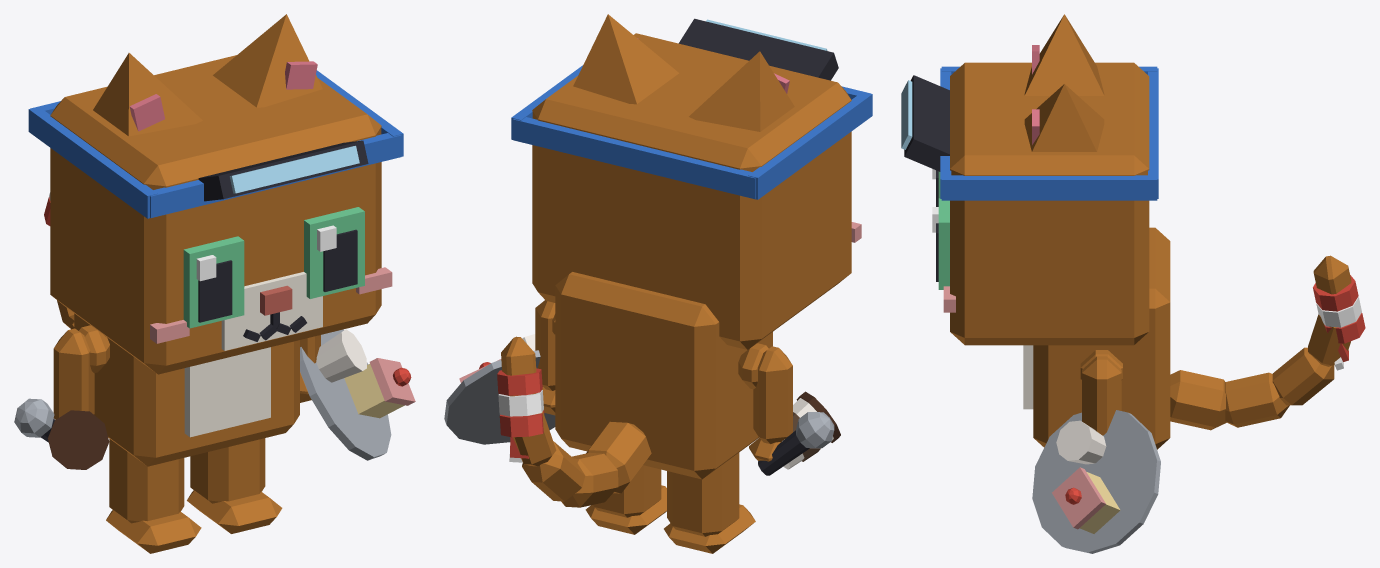
File: CatCafe_Cat_Ski_Work.glb
The picture shows the model from 3 angles, left to right: view 1: azimuth 30°, elevation 25°; view 2: azimuth 150°, elevation 25°; view 3: azimuth 270°, elevation 25°; orthographic projection. The views are drawn at different scales.
Parts seen in each view (by area): view 1: CatCafe_Cat_Ski_Work_Head, CatCafe_Cat_Ski_Work_Body, CatCafe_Cat_Ski_Work_Prop, CatCafe_Cat_Ski_Work_Held_Waiter, CatCafe_Cat_Ski_Work_LegB2, CatCafe_Cat_Ski_Work_LegB1, CatCafe_Cat_Ski_Work_EarL, CatCafe_Cat_Ski_Work_Eye2, CatCafe_Cat_Ski_Work_Eye1, CatCafe_Cat_Ski_Work_EarR, CatCafe_Cat_Ski_Work_LegF2, CatCafe_Cat_Ski_Work_Held_Barista (+2 smaller); view 2: CatCafe_Cat_Ski_Work_Head, CatCafe_Cat_Ski_Work_Body, CatCafe_Cat_Ski_Work_Prop, CatCafe_Cat_Ski_Work_Tail, CatCafe_Cat_Ski_Work_LegB2, CatCafe_Cat_Ski_Work_EarL, CatCafe_Cat_Ski_Work_EarR, CatCafe_Cat_Ski_Work_Held_Waiter, CatCafe_Cat_Ski_Work_LegF2, CatCafe_Cat_Ski_Work_LegB1, CatCafe_Cat_Ski_Work_Tail_Scarf, CatCafe_Cat_Ski_Work_Held_Entertainer (+2 smaller); view 3: CatCafe_Cat_Ski_Work_Head, CatCafe_Cat_Ski_Work_Held_Waiter, CatCafe_Cat_Ski_Work_Body, CatCafe_Cat_Ski_Work_Prop, CatCafe_Cat_Ski_Work_Tail, CatCafe_Cat_Ski_Work_EarR, CatCafe_Cat_Ski_Work_EarL, CatCafe_Cat_Ski_Work_LegF1, CatCafe_Cat_Ski_Work_Tail_Scarf, CatCafe_Cat_Ski_Work_Eye1.
Boxes of the visible parts, x1,y1,x2,y2 form: CatCafe_Cat_Ski_Work_Head: (50, 55, 392, 374); CatCafe_Cat_Ski_Work_Body: (74, 313, 299, 466); CatCafe_Cat_Ski_Work_Prop: (28, 70, 403, 218); CatCafe_Cat_Ski_Work_Held_Waiter: (300, 329, 415, 460); CatCafe_Cat_Ski_Work_LegB2: (106, 439, 201, 553); CatCafe_Cat_Ski_Work_LegB1: (187, 438, 282, 533); CatCafe_Cat_Ski_Work_EarL: (213, 14, 322, 107); CatCafe_Cat_Ski_Work_Eye2: (183, 236, 244, 328); CatCafe_Cat_Ski_Work_Eye1: (304, 207, 364, 298); CatCafe_Cat_Ski_Work_EarR: (93, 53, 202, 136); CatCafe_Cat_Ski_Work_LegF2: (53, 328, 94, 419); CatCafe_Cat_Ski_Work_Held_Barista: (47, 410, 109, 469); CatCafe_Cat_Ski_Work_Head: (532, 33, 861, 349); CatCafe_Cat_Ski_Work_Body: (552, 272, 772, 479); CatCafe_Cat_Ski_Work_Prop: (511, 18, 872, 199); CatCafe_Cat_Ski_Work_Tail: (501, 336, 651, 507); CatCafe_Cat_Ski_Work_LegB2: (664, 452, 755, 553); CatCafe_Cat_Ski_Work_EarL: (573, 14, 678, 104); CatCafe_Cat_Ski_Work_EarR: (689, 51, 794, 131); CatCafe_Cat_Ski_Work_Held_Waiter: (444, 334, 555, 444); CatCafe_Cat_Ski_Work_LegF2: (749, 346, 792, 461); CatCafe_Cat_Ski_Work_LegB1: (585, 465, 666, 534); CatCafe_Cat_Ski_Work_Tail_Scarf: (497, 368, 544, 462); CatCafe_Cat_Ski_Work_Held_Entertainer: (758, 412, 834, 475); CatCafe_Cat_Ski_Work_Head: (943, 62, 1149, 345); CatCafe_Cat_Ski_Work_Held_Waiter: (1032, 410, 1160, 553); CatCafe_Cat_Ski_Work_Body: (1023, 227, 1170, 449); CatCafe_Cat_Ski_Work_Prop: (901, 66, 1158, 200); CatCafe_Cat_Ski_Work_Tail: (1170, 255, 1351, 430); CatCafe_Cat_Ski_Work_EarR: (1024, 14, 1104, 95); CatCafe_Cat_Ski_Work_EarL: (1024, 84, 1104, 151); CatCafe_Cat_Ski_Work_LegF1: (1082, 356, 1121, 435); CatCafe_Cat_Ski_Work_Tail_Scarf: (1313, 275, 1365, 370); CatCafe_Cat_Ski_Work_Eye1: (932, 198, 949, 289).
Size of the model in its own units: 1.53 by 1.93 by 1.77.
Materials: 1 (1 with a texture image).
